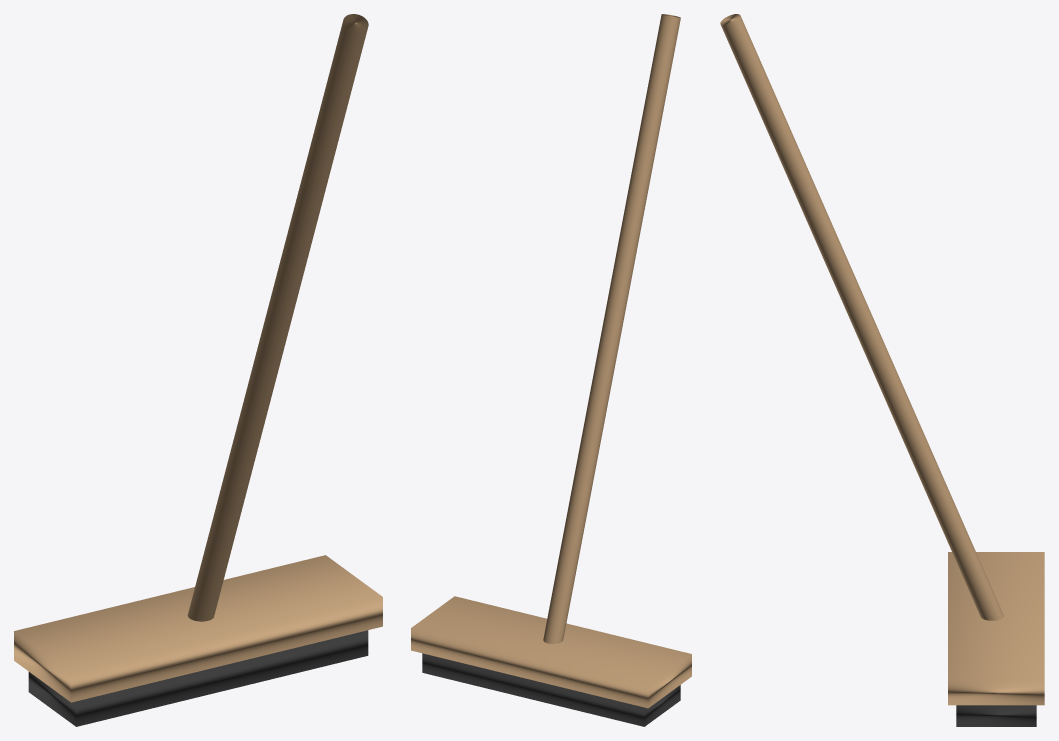
File: Broom.fbx
The picture shows the model from 3 angles, left to right: view 1: azimuth 30°, elevation 25°; view 2: azimuth 150°, elevation 25°; view 3: azimuth 270°, elevation 25°; orthographic projection. The views are drawn at different scales.
Parts seen in each view (by area): view 1: Cube, Cylinder, Cube.001; view 2: Cube, Cylinder, Cube.001; view 3: Cylinder, Cube, Cube.001.
Boxes of the visible parts, bbox=[...] form: Cube: bbox=[14, 555, 382, 702]; Cylinder: bbox=[187, 14, 368, 621]; Cube.001: bbox=[28, 630, 368, 726]; Cube: bbox=[411, 596, 691, 708]; Cylinder: bbox=[543, 14, 680, 643]; Cube.001: bbox=[422, 653, 680, 726]; Cylinder: bbox=[720, 14, 1003, 620]; Cube: bbox=[948, 552, 1044, 705]; Cube.001: bbox=[956, 705, 1036, 726].
Size of the model in its own units: 58.95 by 139 by 62.91.
